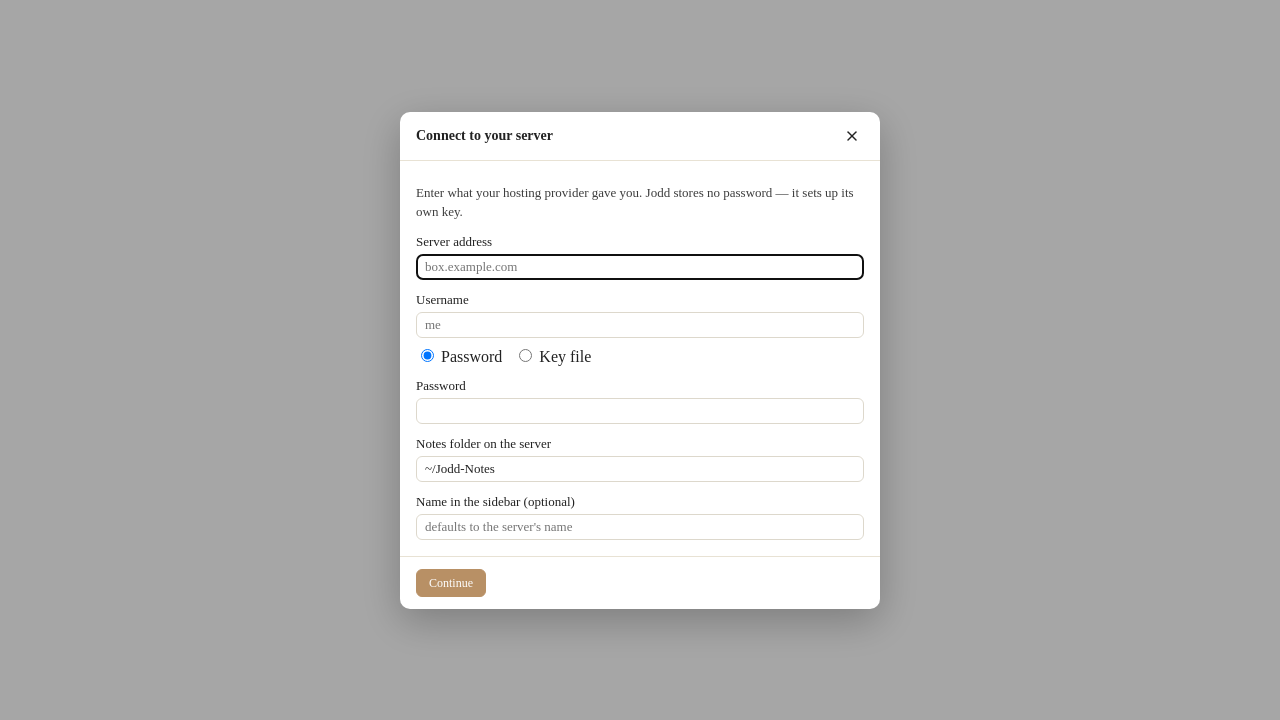
Test: shows a plain error and lets the user go back on a fingerprint failure
The width and height of the screenshot is (1280, 720).
Type "nope.invalid" into the field with test id "easy-ssh-host". click: (640, 266)
box: left=416, top=254, right=864, bottom=280
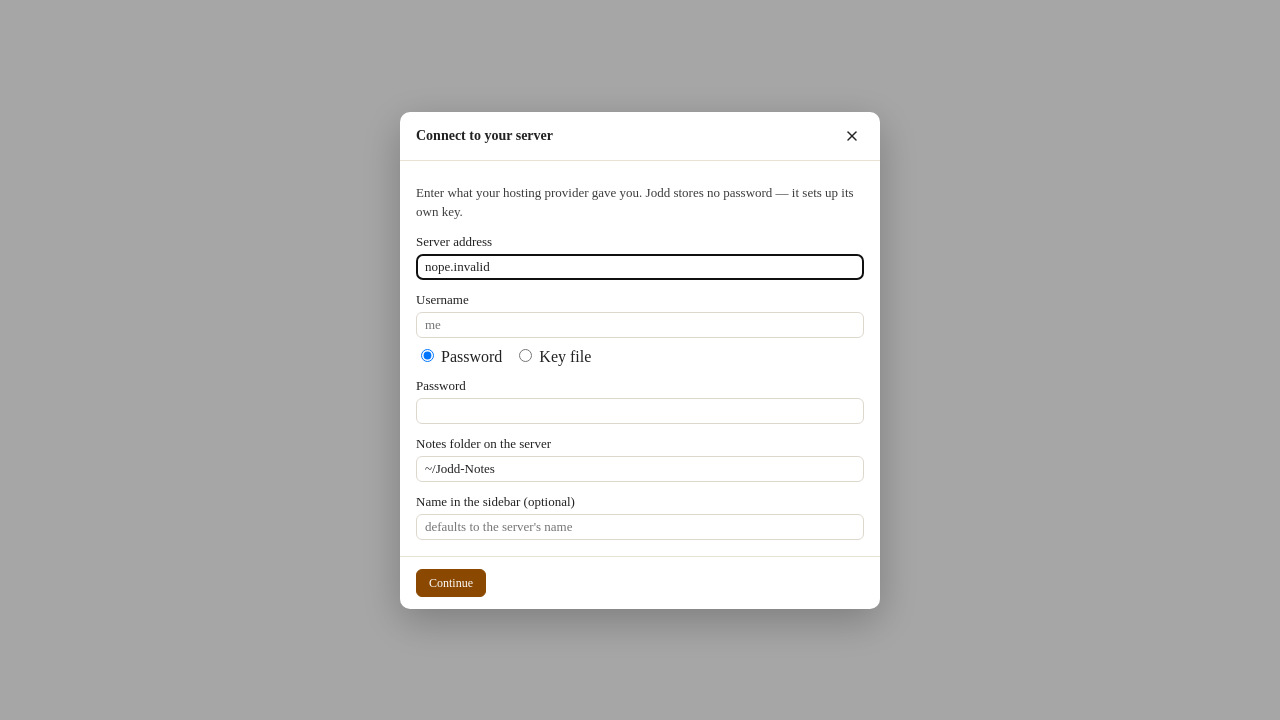
Click the button "Continue". click: (451, 582)
box: left=416, top=568, right=486, bottom=596
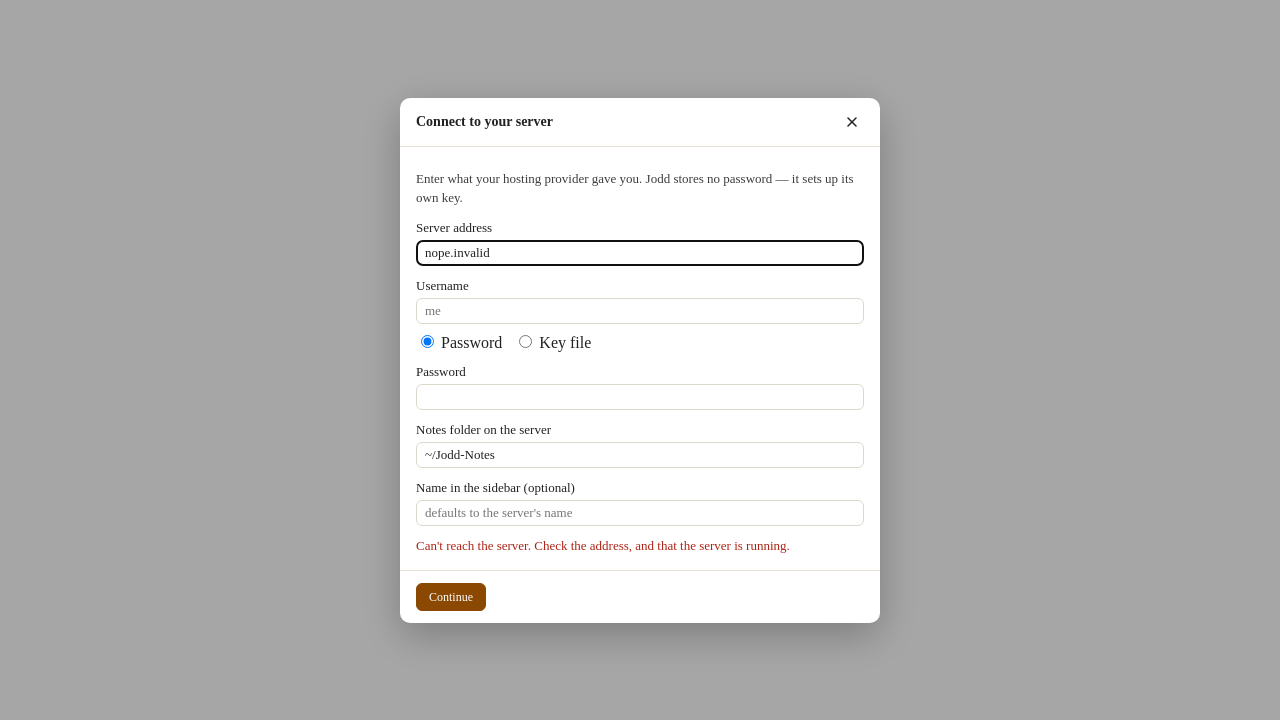
Expected: the text "Can't reach the server" is shown, left=416, top=538, right=790, bottom=552
